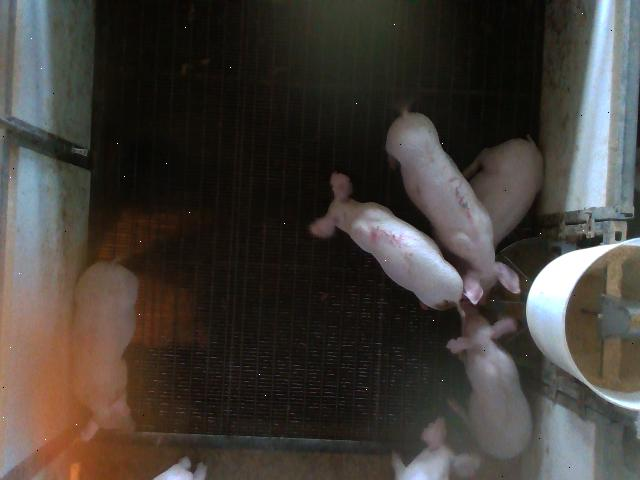pig-3: (386, 111, 518, 304)
pig-4: (74, 261, 139, 441)
pig-5: (310, 172, 462, 309)
